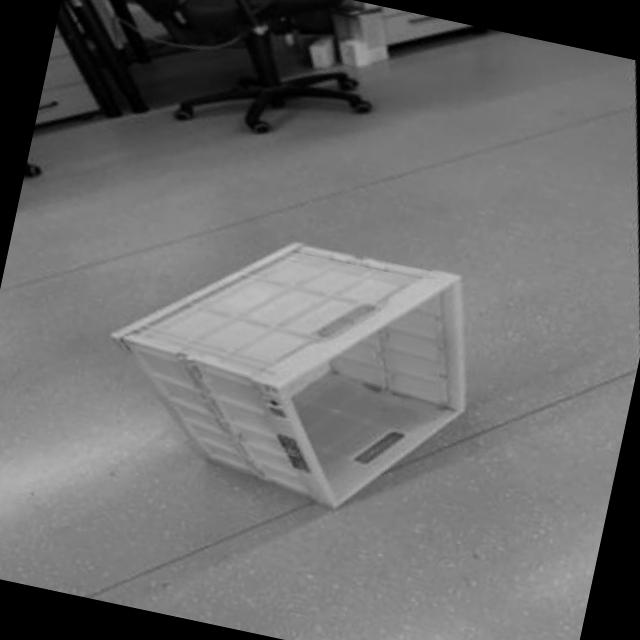box: (32, 113, 543, 612)
